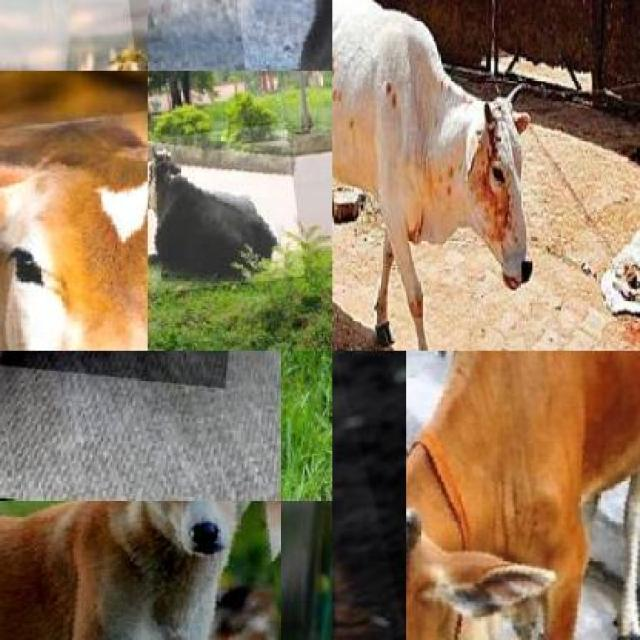cow: (332, 0, 540, 351), (406, 351, 640, 640), (0, 94, 148, 351), (148, 122, 304, 296), (332, 351, 406, 640)
dog: (0, 500, 280, 640)
injured: (514, 507, 640, 640), (488, 130, 509, 267)
